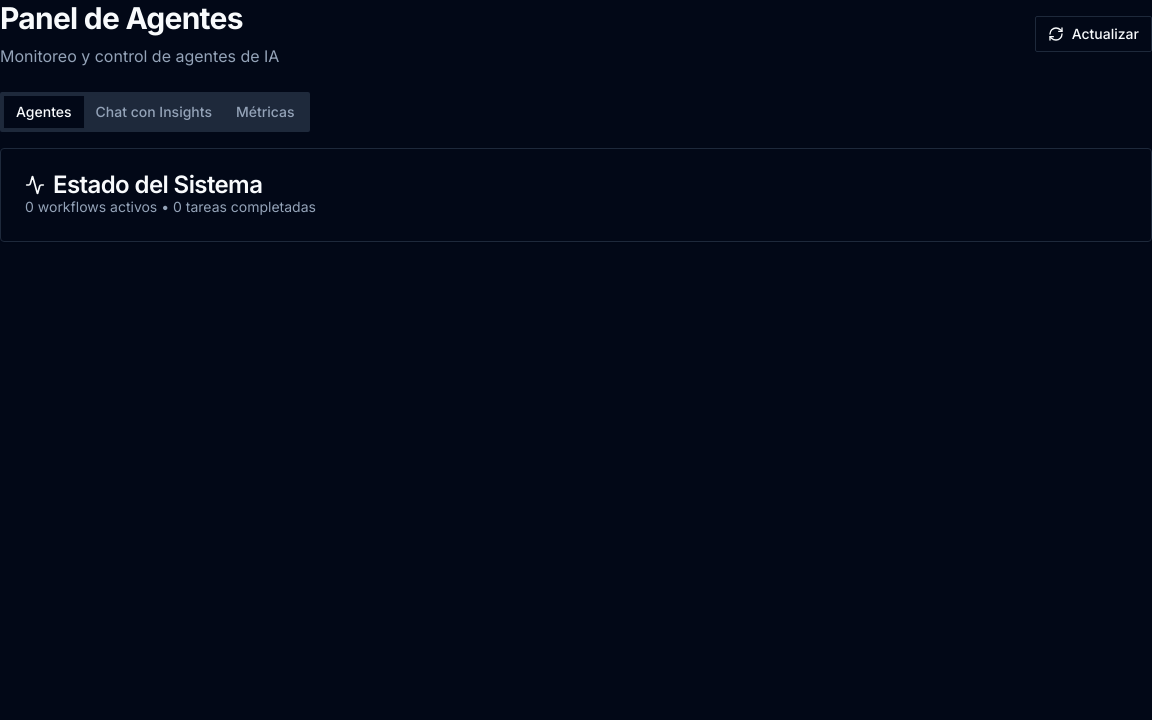
Scenario: la tarjeta del proveedor en el chat › el turno viaja con el proveedor elegido
Press the mouse on the tab "Chat con Insights": (154, 112) [84,96,224,128]
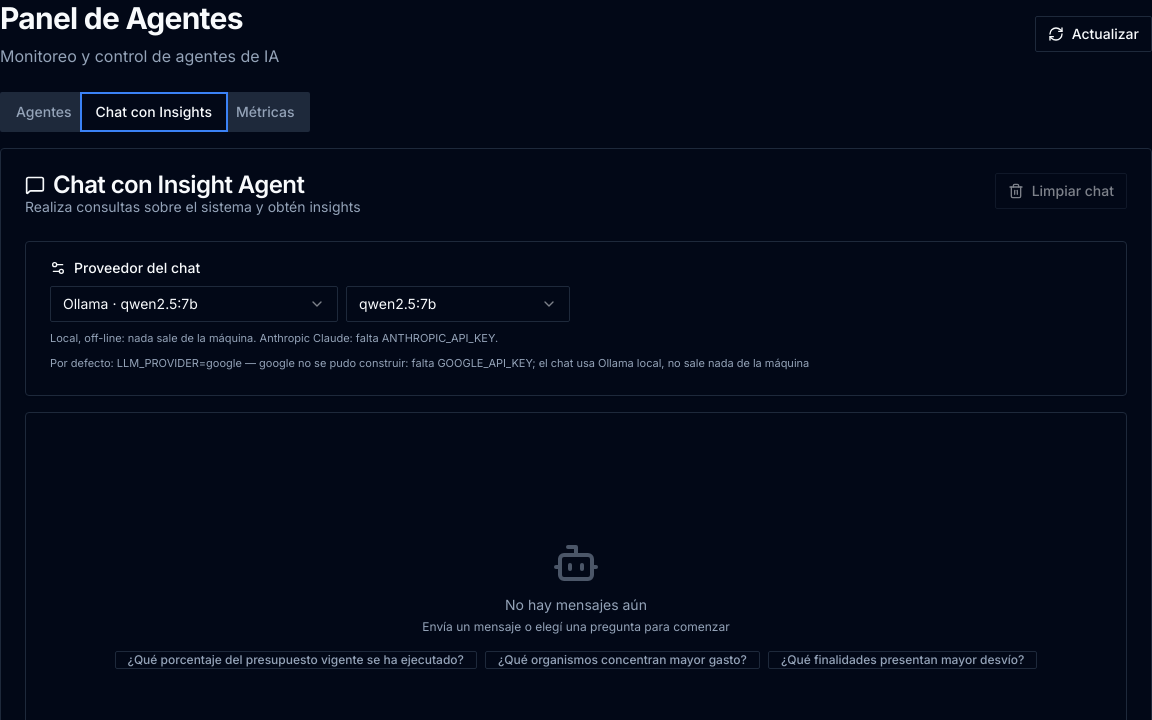
Press Enter in the tab "Chat con Insights", box [84,96,224,128]
Click the tab "Chat con Insights": (154, 112) [84,96,224,128]
(page scrolled)
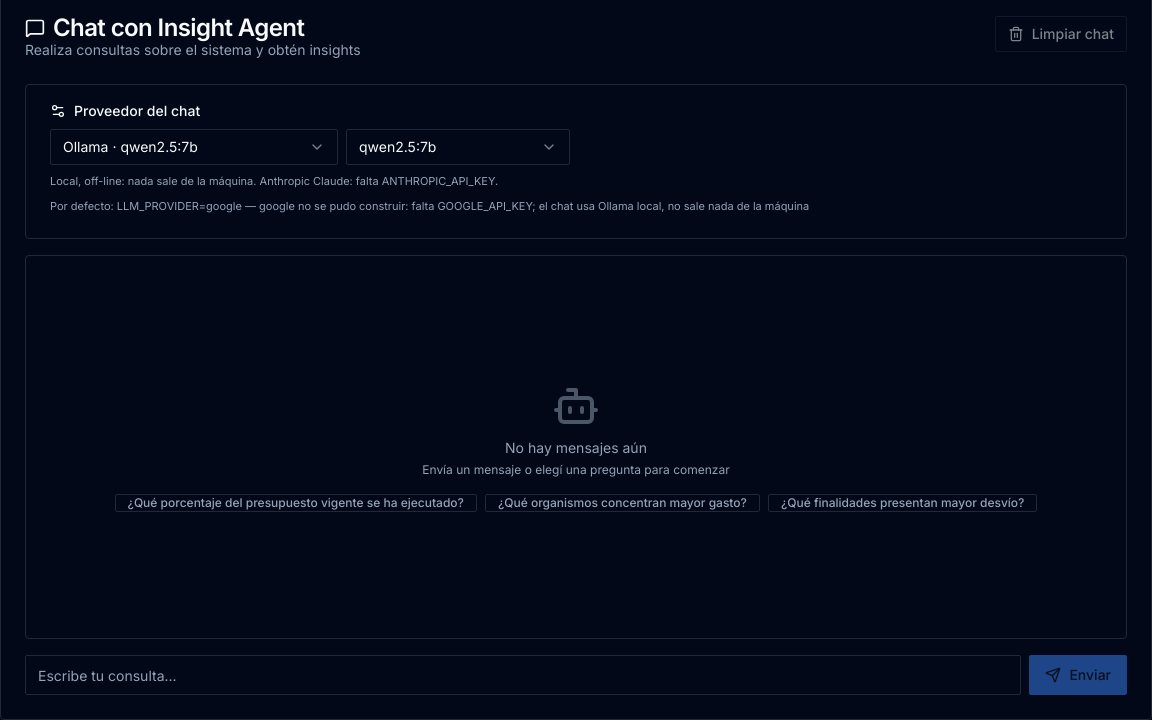
In the field with placeholder "Escribe tu consulta...": (523, 675) [25,655,1021,695], type "¿Qué organismos concentran mayor gasto?"
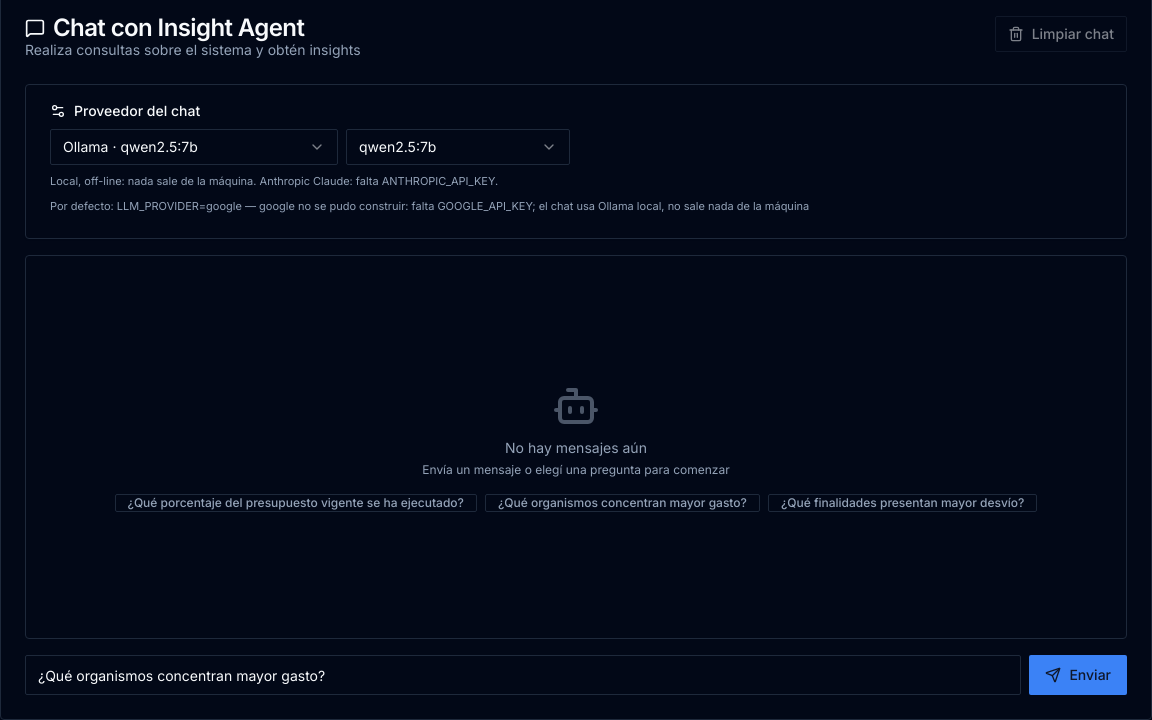
Click the button "Enviar": (1078, 675) [1029,655,1127,695]
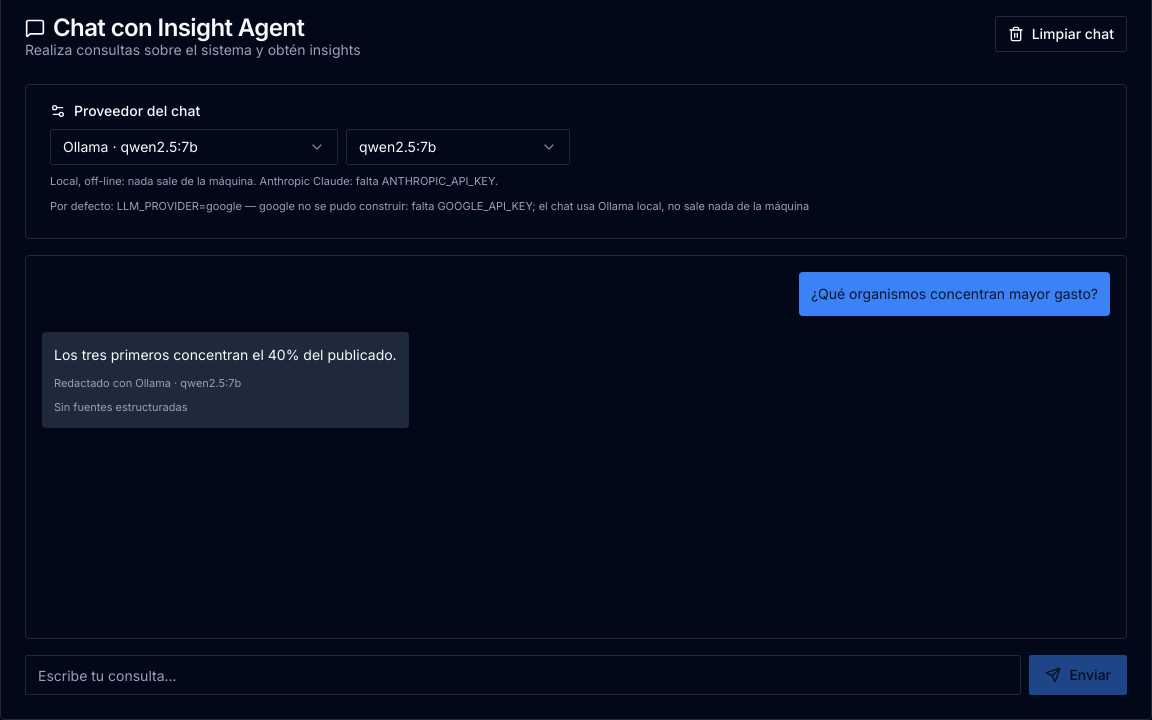
Result: the text "Los tres primeros concentran el 40% del publicado." is shown at [54,344,397,367]
